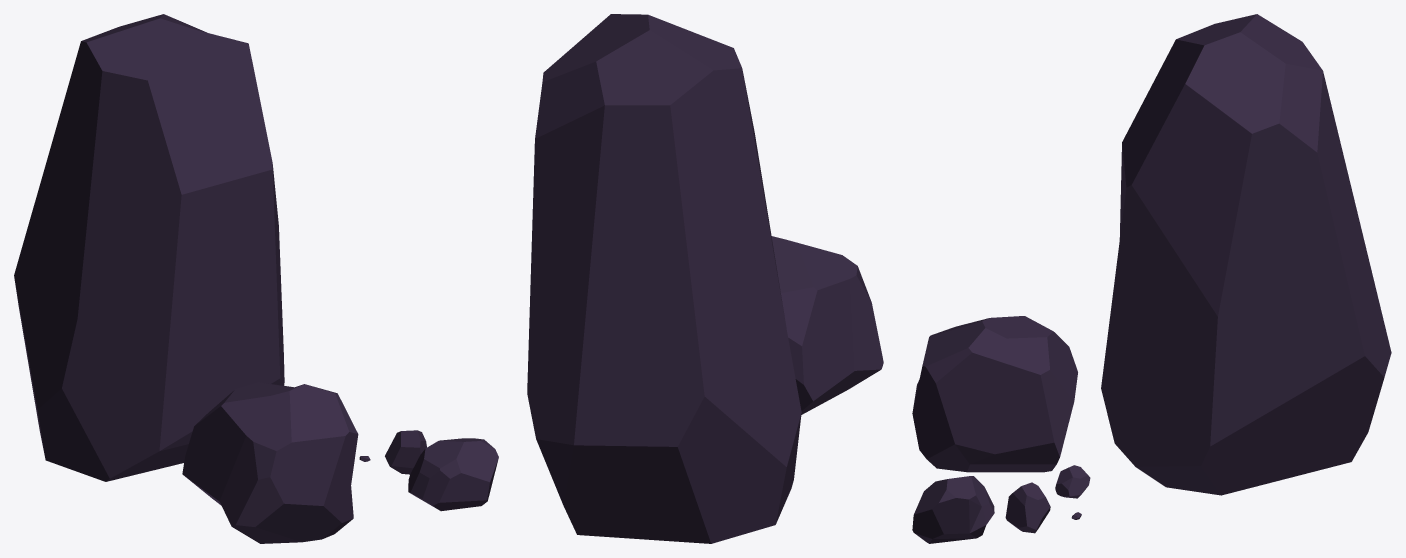
File: rocks.fbx
3 renders of one model, left to right at view 1: azimuth 30°, elevation 25°; view 2: azimuth 150°, elevation 25°; view 3: azimuth 270°, elevation 25°, orthographic. The views are drawn at different scales.
Visible parts, largest first — view 1: Sphere.007, Sphere.006, Sphere.004, Sphere.005; view 2: Sphere.007, Sphere.006; view 3: Sphere.007, Sphere.006, Sphere.004, Sphere.005, Sphere.003.
Part boxes in pixels (bbox=[...]): Sphere.007: bbox=[14, 14, 284, 481]; Sphere.006: bbox=[182, 382, 358, 543]; Sphere.004: bbox=[408, 438, 498, 511]; Sphere.005: bbox=[385, 430, 426, 474]; Sphere.007: bbox=[527, 14, 801, 543]; Sphere.006: bbox=[771, 236, 883, 414]; Sphere.007: bbox=[1101, 14, 1391, 495]; Sphere.006: bbox=[912, 316, 1077, 472]; Sphere.004: bbox=[912, 476, 994, 543]; Sphere.005: bbox=[1005, 482, 1050, 533]; Sphere.003: bbox=[1055, 465, 1090, 498].
Size of the model in its own units: 1276 by 1635 by 1664.
